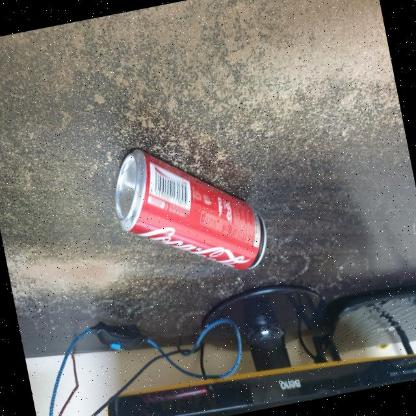Can: (110, 146, 272, 278)
